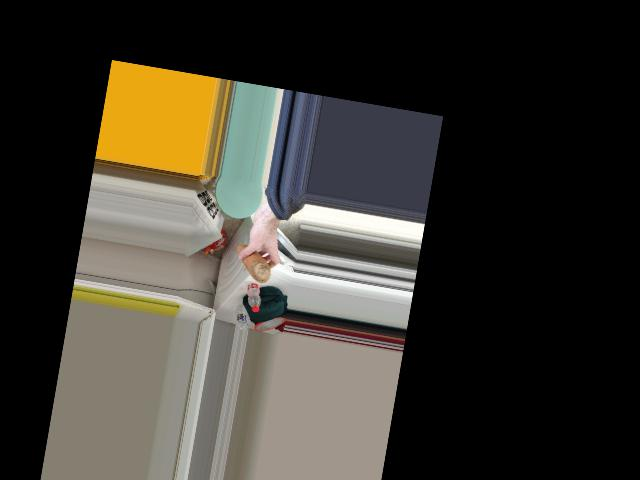sweet_potato: (228, 242, 278, 283)
